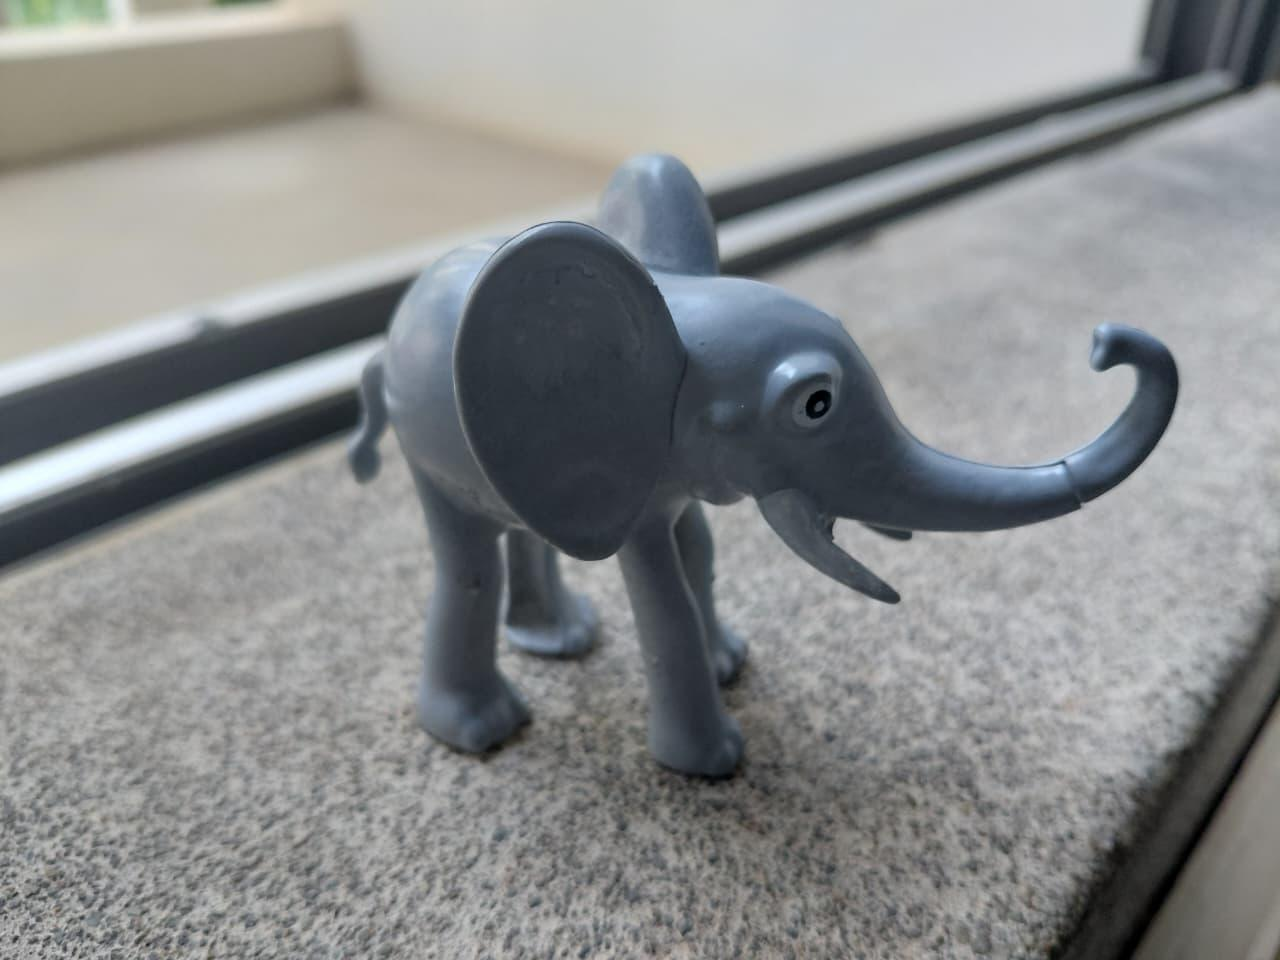elephant: (284, 118, 1204, 814)
